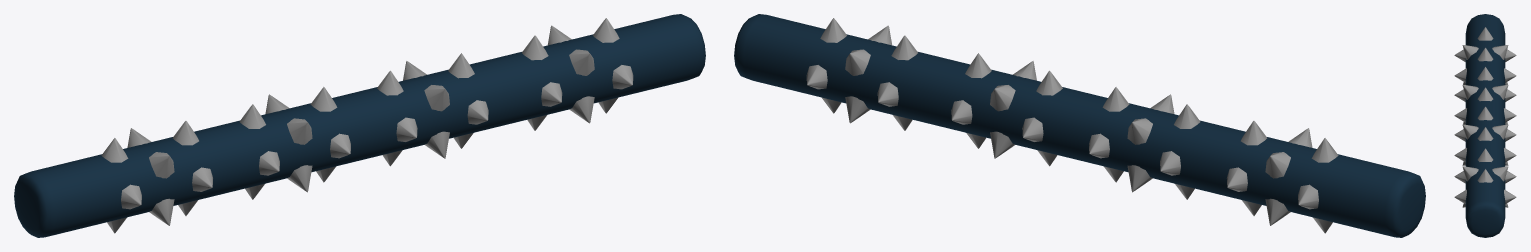
Rendered from HazardCylinderLong.fbx.
3 renders of one model, left to right at view 1: azimuth 30°, elevation 25°; view 2: azimuth 150°, elevation 25°; view 3: azimuth 270°, elevation 25°, orthographic. The views are drawn at different scales.
Visible parts, largest first — view 1: Hazard; view 2: Hazard; view 3: Hazard.
Part boxes in pixels (<box>): Hazard: <box>14,14,705,237</box>; Hazard: <box>734,14,1425,237</box>; Hazard: <box>1454,14,1516,237</box>.
Size of the model in its own units: 337 by 46.4 by 46.4.
